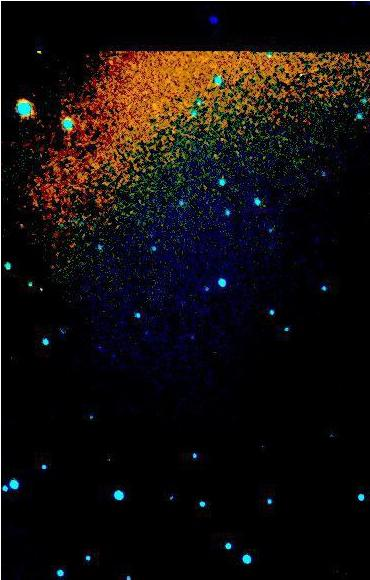star: (93, 445, 123, 475)
